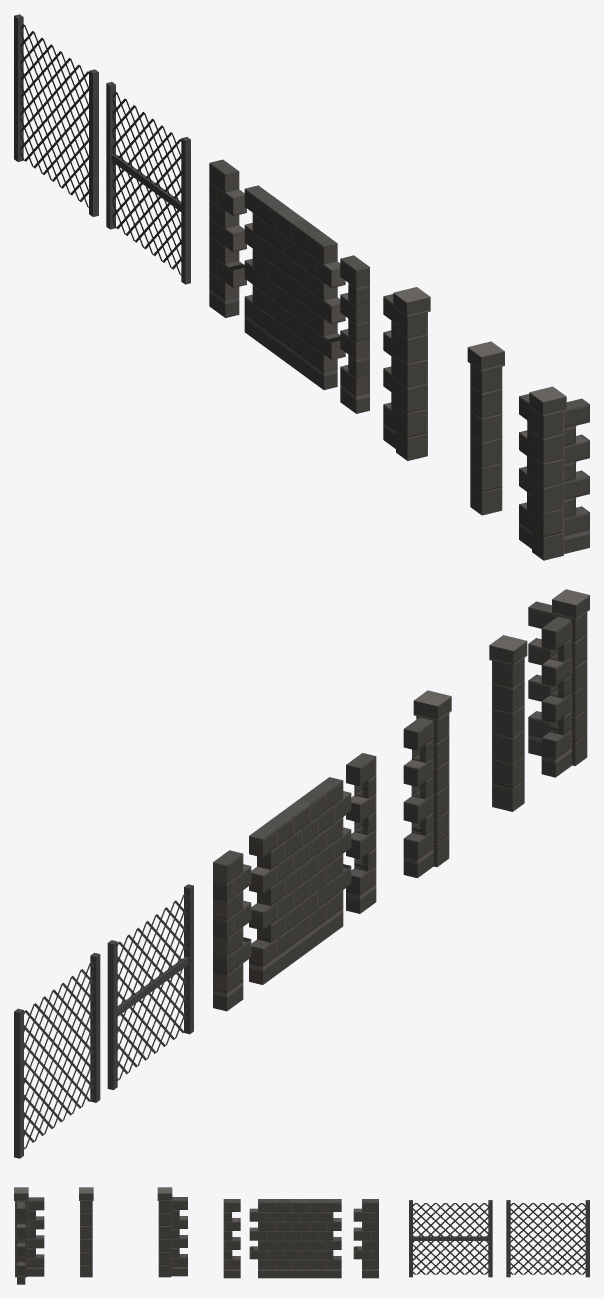
Rendered from Wall_modular_package.fbx.
The picture shows the model from 3 angles, top to bottom: view 1: azimuth 30°, elevation 25°; view 2: azimuth 150°, elevation 25°; view 3: azimuth 270°, elevation 25°; orthographic projection. The views are drawn at different scales.
Parts seen in each view (by area): view 1: Break_Wall_LOW, Break_wall_CornTurn_LOW, Fance.001, Fance.003, Break_wall_END_WithPole_LOW, Break_Wall_Pole_LOW, Break_wall_END_Left_LOW, Break_wall_END_Righ_LOW; view 2: Break_Wall_LOW, Break_wall_CornTurn_LOW, Fance.001, Break_wall_END_WithPole_LOW, Fance.003, Break_Wall_Pole_LOW, Break_wall_END_Left_LOW, Break_wall_END_Righ_LOW; view 3: Break_Wall_LOW, Fance.001, Fance.003, Break_wall_CornTurn_LOW, Break_wall_END_WithPole_LOW, Break_wall_END_Left_LOW, Break_wall_END_Righ_LOW, Break_Wall_Pole_LOW.
Boxes of the visible parts, x1,y1,x2,y2 form: Break_Wall_LOW: (244, 185, 345, 389); Break_wall_CornTurn_LOW: (519, 386, 589, 560); Fance.001: (106, 82, 190, 284); Fance.003: (14, 14, 98, 216); Break_wall_END_WithPole_LOW: (383, 287, 430, 460); Break_Wall_Pole_LOW: (467, 341, 504, 515); Break_wall_END_Left_LOW: (209, 159, 246, 317); Break_wall_END_Righ_LOW: (340, 255, 369, 413); Break_Wall_LOW: (249, 777, 351, 984); Break_wall_CornTurn_LOW: (528, 589, 589, 777); Fance.001: (107, 884, 193, 1089); Break_wall_END_WithPole_LOW: (403, 690, 451, 878); Fance.003: (14, 952, 100, 1158); Break_Wall_Pole_LOW: (489, 635, 527, 811); Break_wall_END_Left_LOW: (213, 850, 251, 1011); Break_wall_END_Righ_LOW: (346, 753, 376, 913); Break_Wall_LOW: (249, 1199, 341, 1278); Fance.001: (409, 1200, 492, 1277); Fance.003: (506, 1200, 589, 1277); Break_wall_CornTurn_LOW: (14, 1187, 44, 1284); Break_wall_END_WithPole_LOW: (157, 1187, 187, 1277); Break_wall_END_Left_LOW: (353, 1199, 378, 1278); Break_wall_END_Righ_LOW: (223, 1199, 240, 1278); Break_Wall_Pole_LOW: (79, 1187, 93, 1277).
Bounding box in the file's own units: 200 × 613 × 3785.
